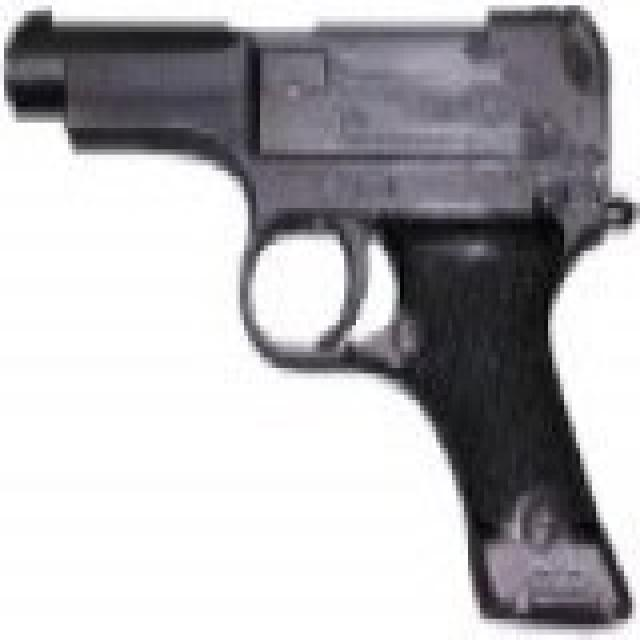Gun: (9, 8, 630, 601)
